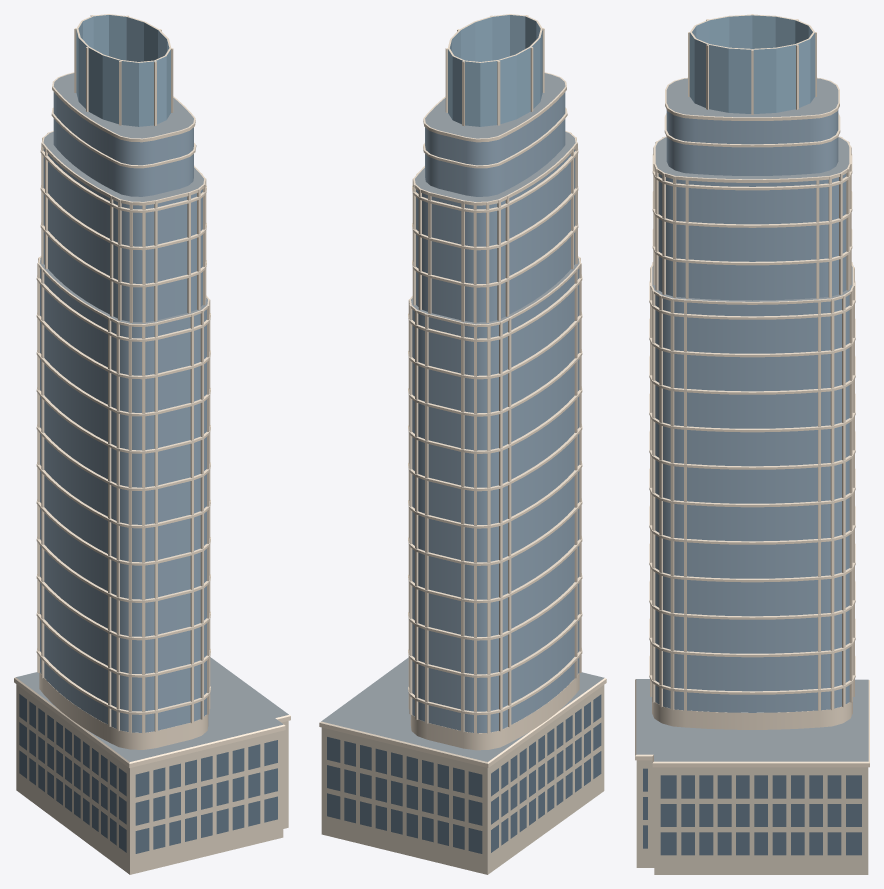
Rendered from atx-the-austonian.glb.
3 renders of one model, left to right at view 1: azimuth 30°, elevation 25°; view 2: azimuth 150°, elevation 25°; view 3: azimuth 270°, elevation 25°, orthographic.
Visible parts, largest first — view 1: The Austonian; view 2: The Austonian; view 3: The Austonian.
Boxes of the visible parts, box(x1,y1,x2,y2) form: The Austonian: box(14, 14, 290, 874); The Austonian: box(319, 14, 606, 874); The Austonian: box(635, 14, 869, 874).
Size of the model in its own units: 47.7 by 208 by 56.2.
